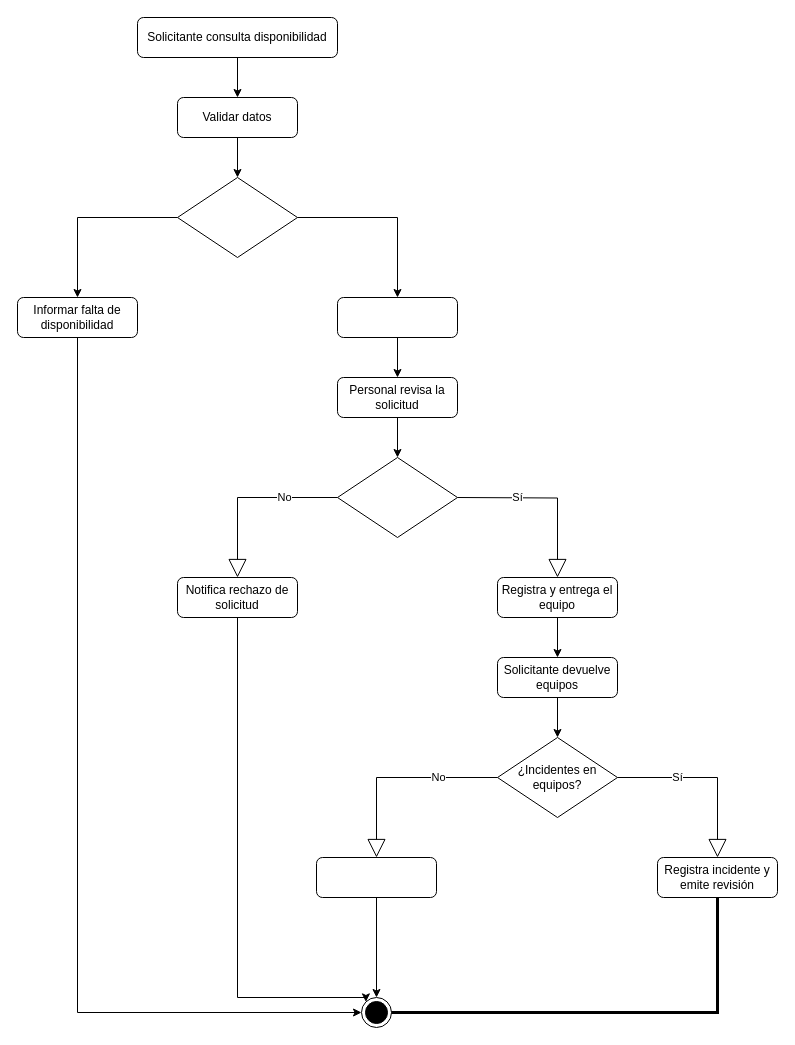
Some shapes in this 795 by 1045 pixel diagram are drawn without their labels. Here are the shapes that lost their labels. From the top down, the box of each, then its label:
(176, 176, 298, 258): ¿Datos Completos?
(336, 296, 458, 338): Registrar solicitud de préstamo
(336, 456, 458, 538): ¿Préstamo autorizado?
(316, 856, 436, 898): Registra sin ningún incidente el equipo
